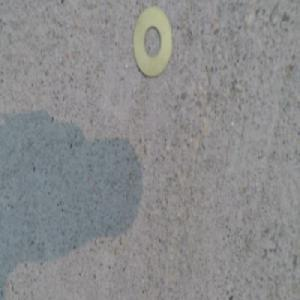Washer: (131, 8, 175, 77)
